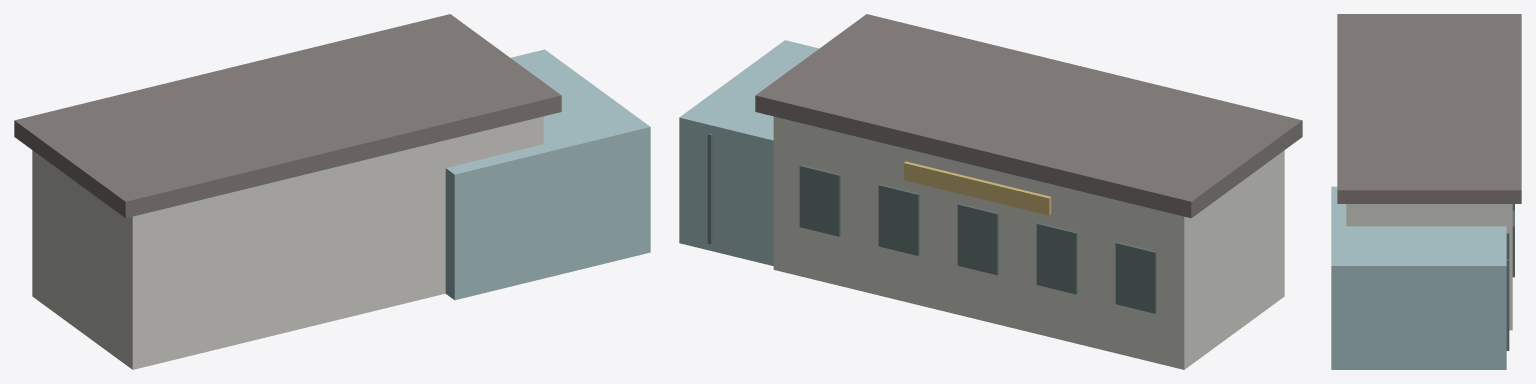
Rendered from kd-slavia.glb.
The picture shows the model from 3 angles, left to right: view 1: azimuth 30°, elevation 25°; view 2: azimuth 150°, elevation 25°; view 3: azimuth 270°, elevation 25°; orthographic projection. The views are drawn at different scales.
Visible parts, largest first — view 1: historic hall, roof cap, glass annex; view 2: historic hall, roof cap, glass annex, front window (×5), event sign, annex mullion; view 3: roof cap, glass annex, historic hall, annex mullion, front window.
Boxes of the visible parts, x1=… form: historic hall: x1=32, y1=116, x2=543, y2=369; roof cap: x1=14, y1=14, x2=561, y2=218; glass annex: x1=445, y1=49, x2=650, y2=300; historic hall: x1=773, y1=116, x2=1284, y2=369; roof cap: x1=755, y1=14, x2=1302, y2=218; glass annex: x1=679, y1=40, x2=818, y2=265; front window (×5): x1=799, y1=165, x2=1156, y2=313; event sign: x1=904, y1=161, x2=1051, y2=215; annex mullion: x1=707, y1=133, x2=712, y2=243; roof cap: x1=1337, y1=14, x2=1521, y2=203; glass annex: x1=1331, y1=186, x2=1506, y2=369; historic hall: x1=1346, y1=204, x2=1512, y2=330; annex mullion: x1=1506, y1=259, x2=1509, y2=350; front window: x1=1512, y1=210, x2=1514, y2=277.
Size of the model in its own units: 16.5 by 5.3 by 6.3.
